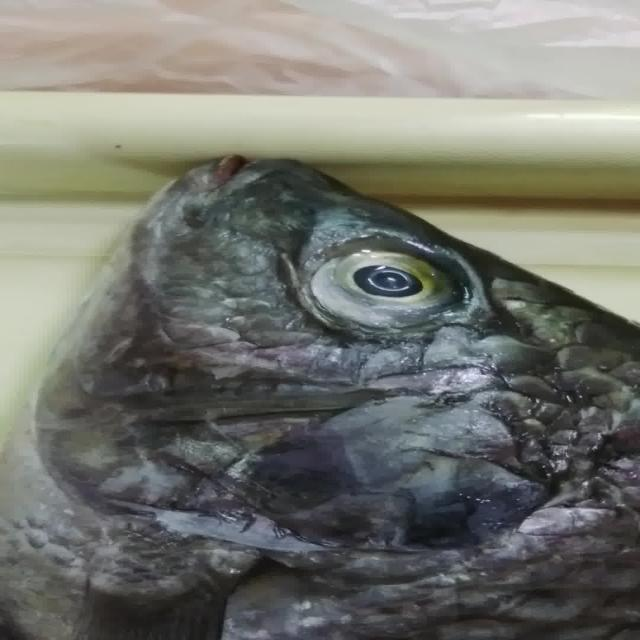Non-Fresh: (264, 206, 508, 360)
